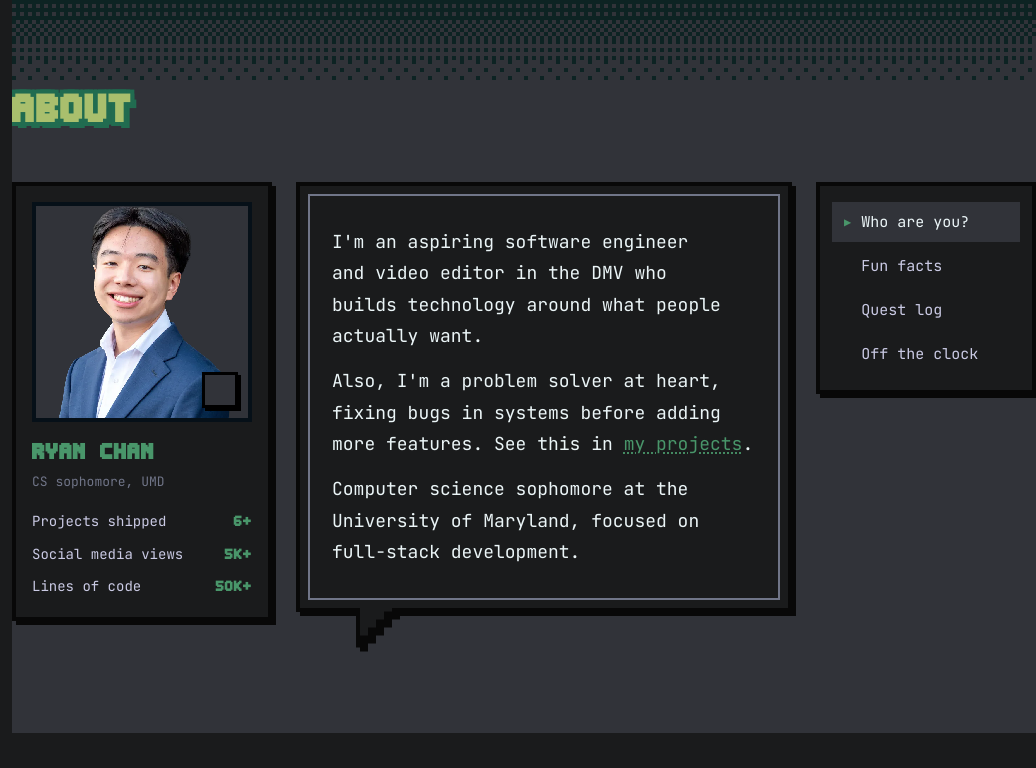
it: About fun facts › shows every fact at once, each with its term
Click the button "Fun facts": (926, 266) top-left (832, 246), bottom-right (1020, 286)
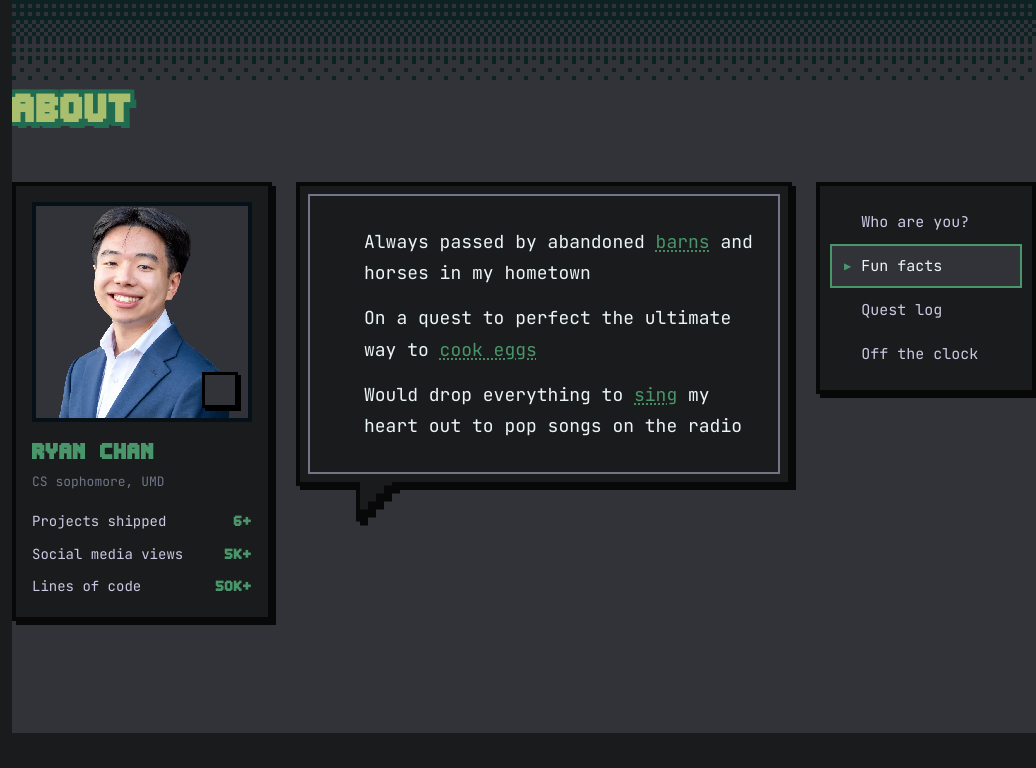
Result: the button "barns" is shown at top-left (656, 226), bottom-right (710, 257)
Result: the button "cook eggs" is shown at top-left (440, 334), bottom-right (537, 365)
Result: the button "sing" is shown at top-left (634, 379), bottom-right (677, 410)
